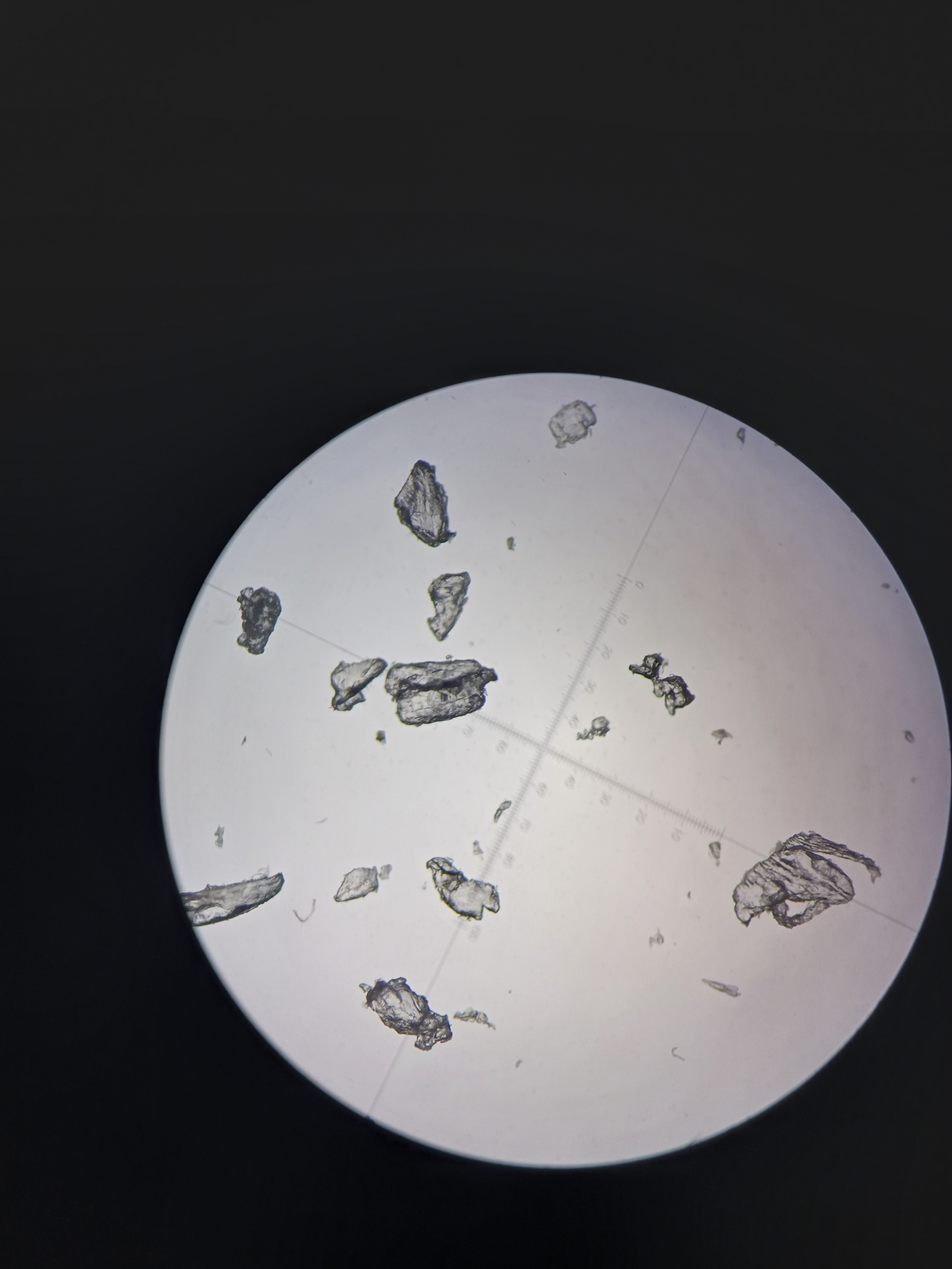microplastic: (730, 829, 883, 933), (358, 971, 453, 1054), (384, 659, 502, 724), (180, 871, 285, 928), (394, 459, 458, 548), (423, 855, 503, 924), (628, 652, 697, 718), (236, 584, 285, 658), (327, 658, 387, 716), (426, 570, 473, 641), (548, 399, 599, 451), (333, 865, 380, 903), (452, 1005, 496, 1034), (699, 976, 746, 1003), (577, 715, 612, 743), (291, 898, 321, 929), (709, 725, 737, 748), (493, 796, 513, 826), (707, 838, 723, 868), (214, 824, 232, 848), (647, 928, 666, 950), (372, 727, 393, 746), (379, 862, 395, 881), (471, 836, 485, 857), (901, 729, 916, 746), (735, 427, 746, 447), (506, 535, 515, 555), (240, 735, 249, 747)
